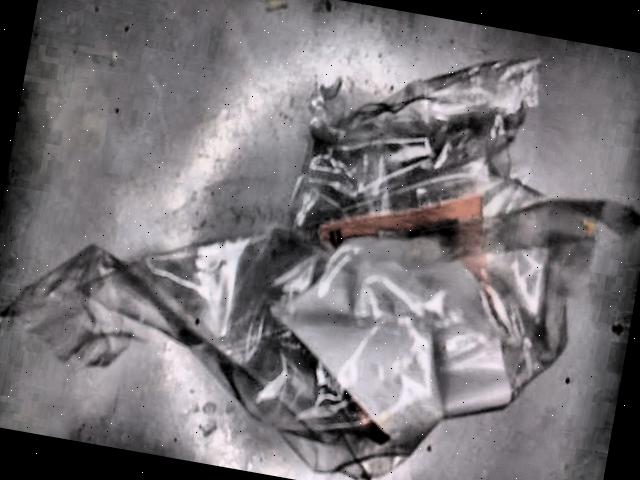Plastic: (0, 59, 640, 480)
